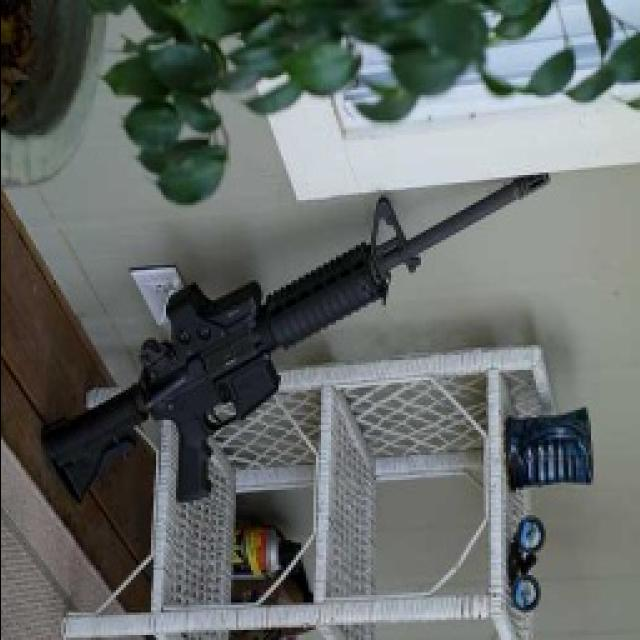long weapon: (6, 137, 558, 558)
